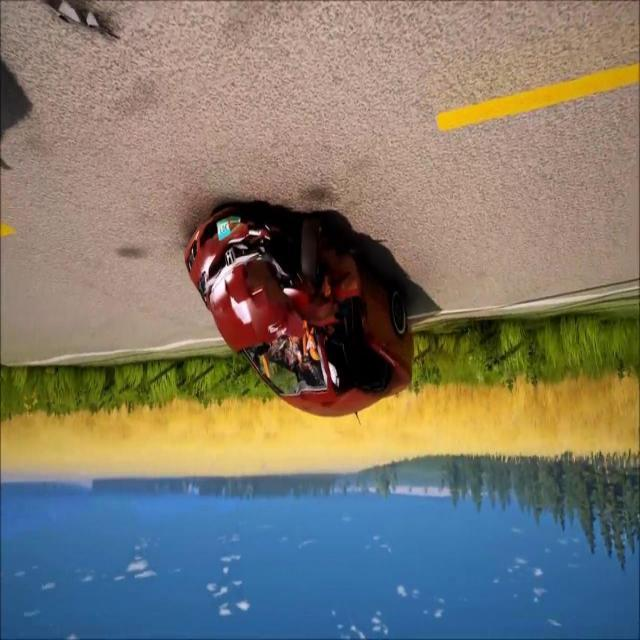severe: (180, 195, 418, 428)
